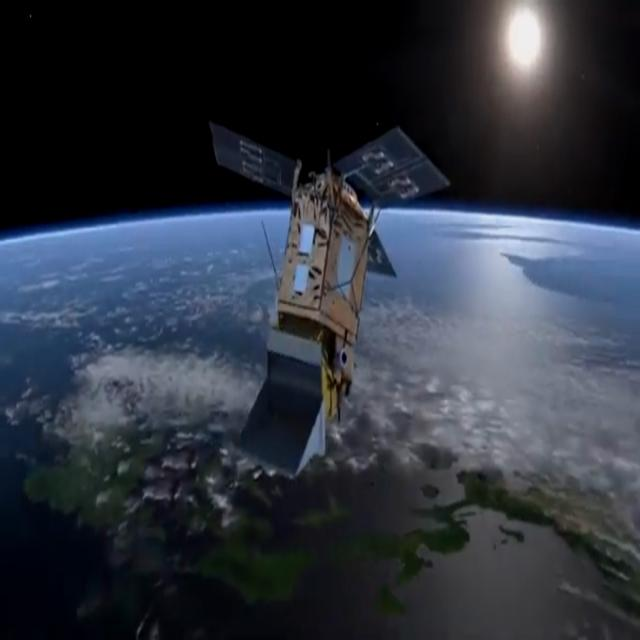medium_debris: (207, 106, 449, 486)
